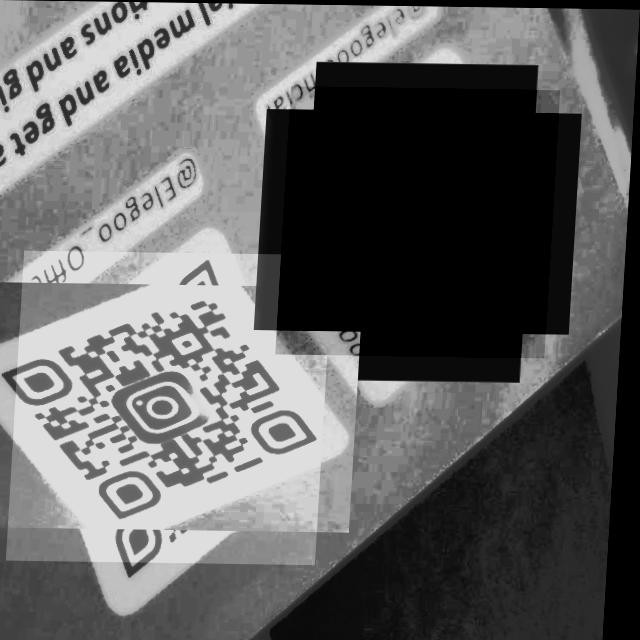qr_code: (13, 250, 336, 564), (280, 85, 561, 357)
